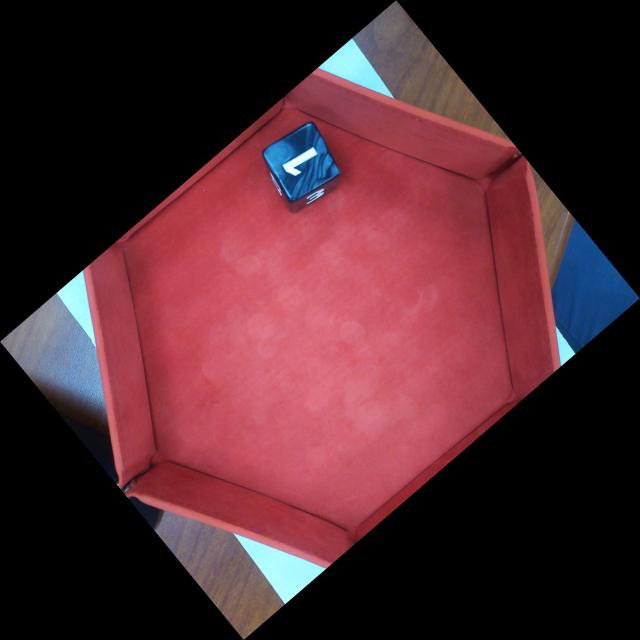dice: (260, 119, 342, 205)
